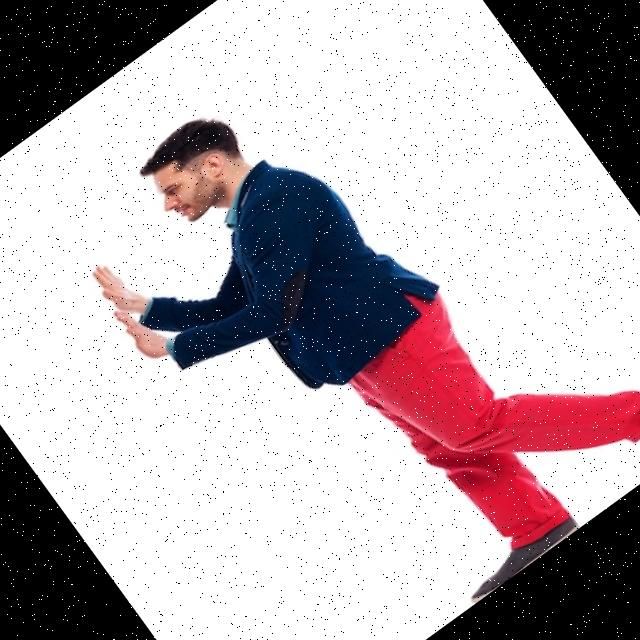Person: (48, 0, 640, 640)
